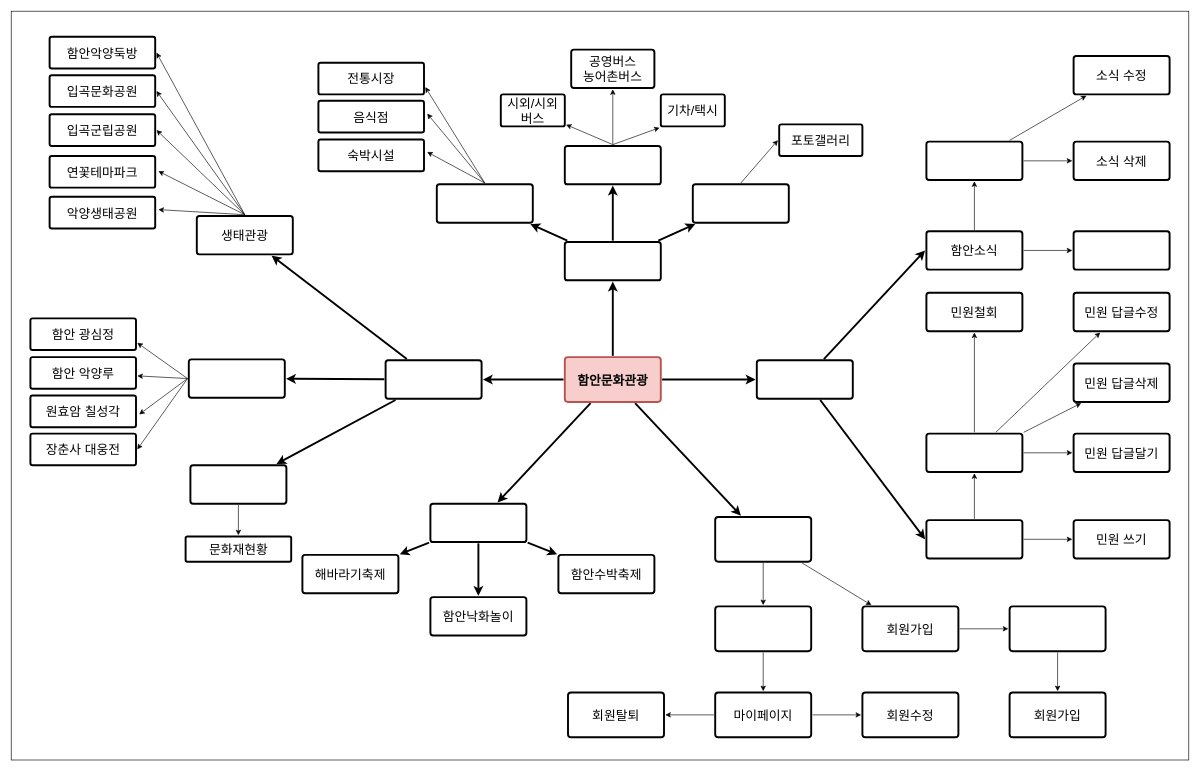
This 1200x771 diagram has some shape labels left out. The shapes that lost their labels are listed below. From the top down, each one's centre as x and y in pixels, then its label:
the point at 612,165: 교통안내
the point at 974,160: 소식 상세보기
the point at 484,203: 관광지도
the point at 740,203: 여행갤러리
the point at 612,261: 관광안내
the point at 1121,250: 소식 쓰기
the point at 236,378: 역사여행
the point at 433,379: 함안여행
the point at 804,379: 공지사항
the point at 974,452: 민원 자세히
the point at 238,484: 문화재
the point at 478,522: 축제행사
the point at 763,539: 회원기능
the point at 974,539: 고객민원
the point at 763,628: 로그인
the point at 1057,628: 약관동의
